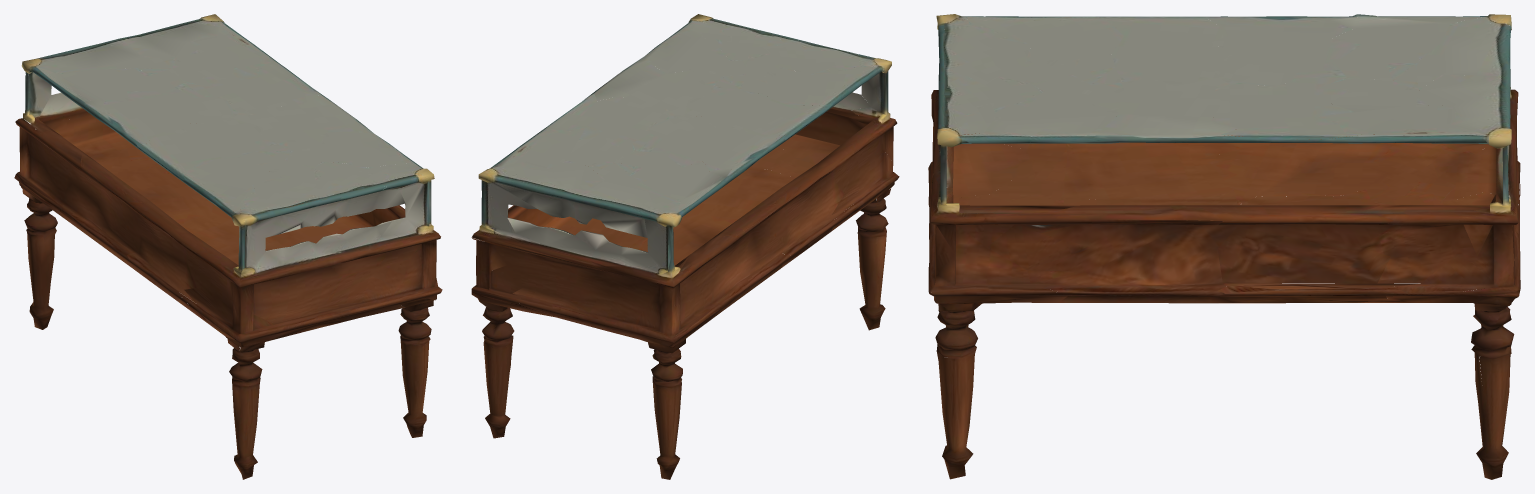
The model's file is cp_vitrine.glb.
The picture shows the model from 3 angles, left to right: view 1: azimuth 30°, elevation 25°; view 2: azimuth 150°, elevation 25°; view 3: azimuth 270°, elevation 25°; orthographic projection. The views are drawn at different scales.
Parts seen in each view (by area): view 1: tripo_node_5fd4ace8-f848-4d95-bfa0-8d78238165ed; view 2: tripo_node_5fd4ace8-f848-4d95-bfa0-8d78238165ed; view 3: tripo_node_5fd4ace8-f848-4d95-bfa0-8d78238165ed.
Boxes of the visible parts, x1=… form: tripo_node_5fd4ace8-f848-4d95-bfa0-8d78238165ed: x1=14, y1=14, x2=442, y2=479; tripo_node_5fd4ace8-f848-4d95-bfa0-8d78238165ed: x1=471, y1=14, x2=899, y2=479; tripo_node_5fd4ace8-f848-4d95-bfa0-8d78238165ed: x1=928, y1=14, x2=1520, y2=479.
Size of the model in its own units: 0.5244 by 0.6496 by 0.9999.
1 material, 1 textured.
